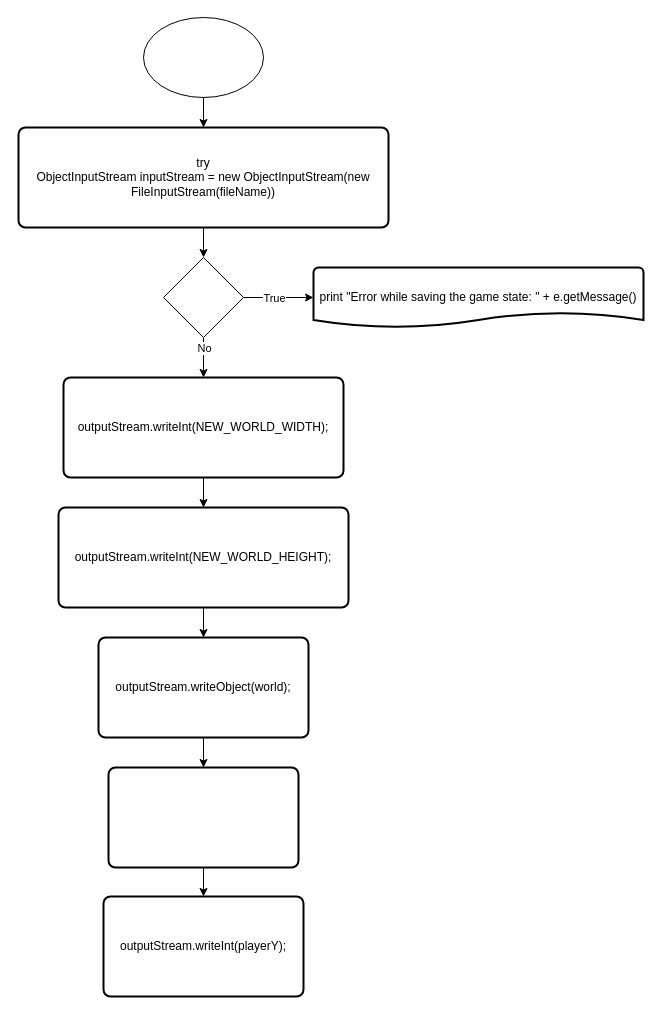
Some shapes in this 661 by 1015 pixel diagram are drawn without their labels. Each missing label, with the centre of its shape:
"Exception occurs" belongs at (x=203, y=297).
"outputStream.writeInt(playerX);" belongs at (x=203, y=817).
"saveGame(String filename) start" belongs at (x=203, y=57).
